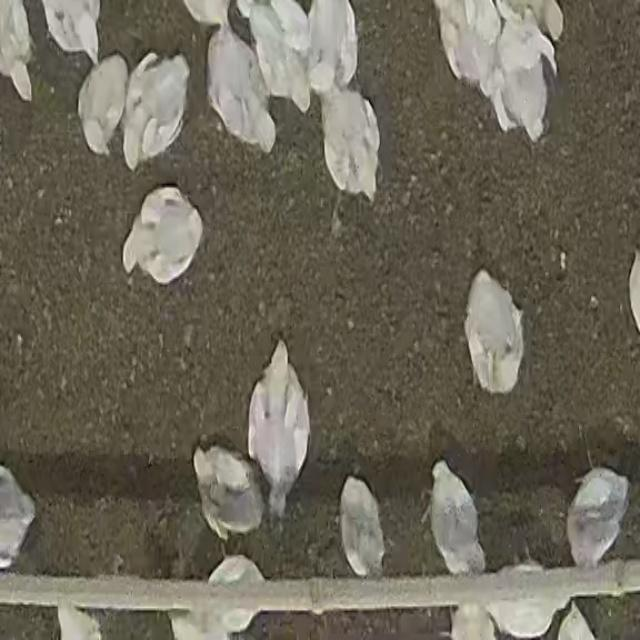chicken: (249, 340, 311, 505), (119, 185, 204, 289), (208, 32, 277, 155), (123, 54, 190, 172), (464, 274, 524, 397), (319, 85, 379, 202), (246, 4, 312, 108), (430, 462, 488, 576), (190, 446, 261, 539), (566, 468, 632, 568), (75, 55, 127, 159), (432, 1, 494, 86), (308, 0, 359, 91), (338, 476, 382, 576), (496, 62, 549, 142), (209, 558, 264, 629), (496, 14, 559, 74), (41, 2, 102, 63), (0, 0, 35, 106), (0, 466, 35, 565), (447, 607, 494, 640), (562, 607, 594, 640)
